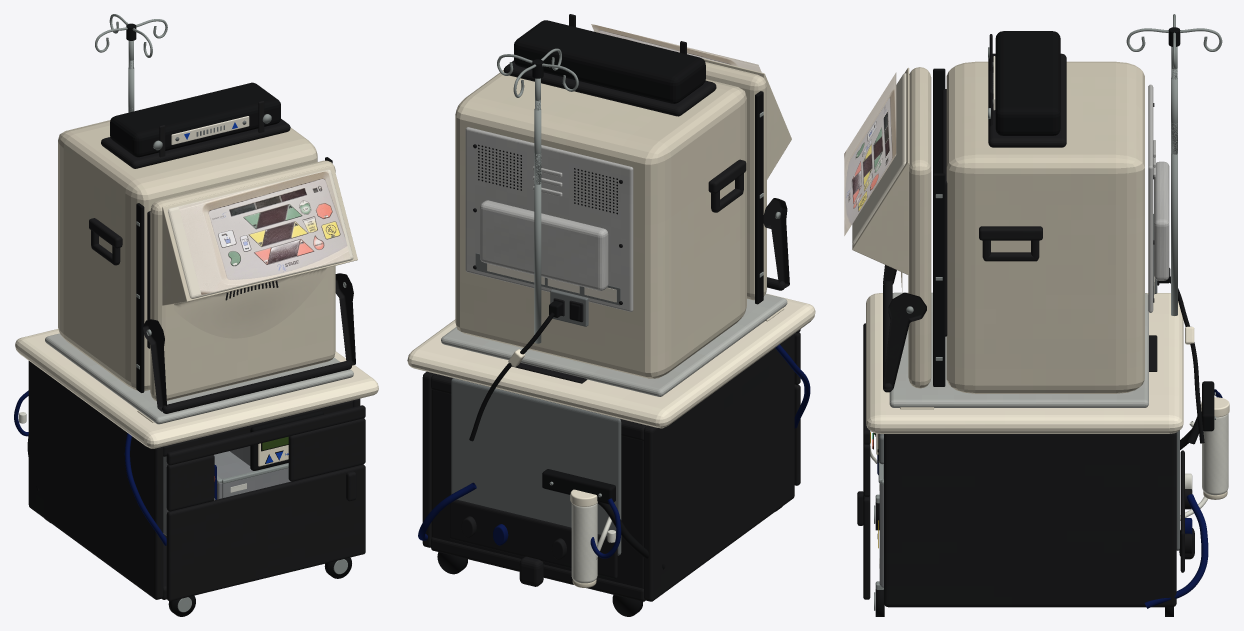
Rendered from nxstage-system-one.glb.
3 renders of one model, left to right at view 1: azimuth 30°, elevation 25°; view 2: azimuth 150°, elevation 25°; view 3: azimuth 270°, elevation 25°, orthographic. The views are drawn at different scales.
Visible parts, largest first — view 1: Upper machine shell, Cabinet left wall, Cabinet door lower panel, Cycler door front shell, Photo-derived control fascia, Upper white shelf, Upper accessory soft case, Central recessed face, Cycler molded support base, Cabinet door right stile, Inclined cycler fascia housing, Cabinet door upper rail (+13 smaller); view 2: Upper machine shell, Cabinet left wall, Rear gray service cover, Cycler rear service panel, Upper white shelf, Upper accessory soft case, Cycler rear raised enclosure, Cabinet rear wall, Cycler molded support base, Rear lower port panel, Cycler door front shell, Upper accessory platform (+21 smaller); view 3: Upper machine shell, Cabinet right wall, Upper white shelf, Cycler door front shell, Upper accessory soft case, Cycler molded support base, Photo-derived control fascia, Inclined cycler fascia housing, Cycler right side guide channel, System One control fascia, Upper accessory platform, Cycler handle arm right (+14 smaller).
Boxes of the visible parts, left/top/right/bottom form: Upper machine shell: left=58, top=120, right=317, bottom=390; Cabinet left wall: left=28, top=361, right=163, bottom=599; Cabinet door lower panel: left=166, top=464, right=365, bottom=601; Cycler door front shell: left=150, top=160, right=335, bottom=400; Photo-derived control fascia: left=178, top=170, right=350, bottom=295; Upper white shelf: left=15, top=329, right=378, bottom=448; Upper accessory soft case: left=110, top=82, right=280, bottom=157; Central recessed face: left=174, top=264, right=340, bottom=338; Cycler molded support base: left=45, top=333, right=353, bottom=424; Cabinet door right stile: left=288, top=418, right=365, bottom=481; Inclined cycler fascia housing: left=162, top=165, right=357, bottom=305; Cabinet door upper rail: left=166, top=405, right=365, bottom=465; Upper machine shell: left=455, top=70, right=746, bottom=378; Cabinet left wall: left=644, top=333, right=794, bottom=601; Rear gray service cover: left=451, top=378, right=621, bottom=555; Cycler rear service panel: left=465, top=127, right=633, bottom=311; Upper white shelf: left=407, top=293, right=815, bottom=428; Upper accessory soft case: left=514, top=20, right=705, bottom=103; Cycler rear raised enclosure: left=480, top=200, right=608, bottom=290; Cabinet rear wall: left=431, top=373, right=647, bottom=588; Cycler molded support base: left=441, top=294, right=787, bottom=396; Rear lower port panel: left=450, top=499, right=617, bottom=578; Cycler door front shell: left=705, top=62, right=766, bottom=300; Upper accessory platform: left=503, top=60, right=716, bottom=116; Upper machine shell: left=946, top=61, right=1144, bottom=393; Cabinet right wall: left=884, top=432, right=1176, bottom=607; Upper white shelf: left=866, top=293, right=1183, bottom=433; Cycler door front shell: left=908, top=67, right=931, bottom=388; Upper accessory soft case: left=995, top=31, right=1060, bottom=135; Cycler molded support base: left=889, top=292, right=1148, bottom=407; Photo-derived control fascia: left=844, top=72, right=896, bottom=235; Inclined cycler fascia housing: left=852, top=67, right=909, bottom=274; Cycler right side guide channel: left=933, top=173, right=945, bottom=386; System One control fascia: left=852, top=73, right=909, bottom=245; Upper accessory platform: left=988, top=53, right=1066, bottom=147; Cycler handle arm right: left=883, top=292, right=926, bottom=390.
Bounding box in the file's own units: 0.4841 × 0.9301 × 0.5976.
19 materials, 19 textured.
